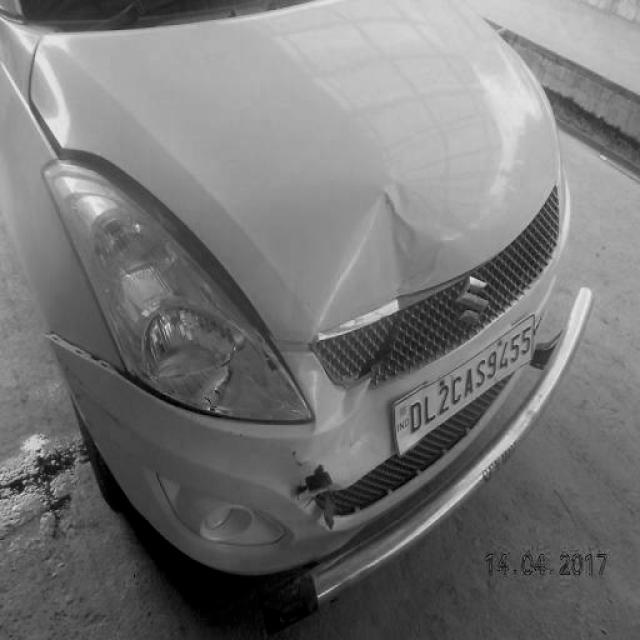car damage: (36, 101, 287, 366), (315, 179, 443, 337), (40, 329, 190, 415), (297, 351, 372, 430), (342, 315, 402, 393), (294, 465, 336, 508)
